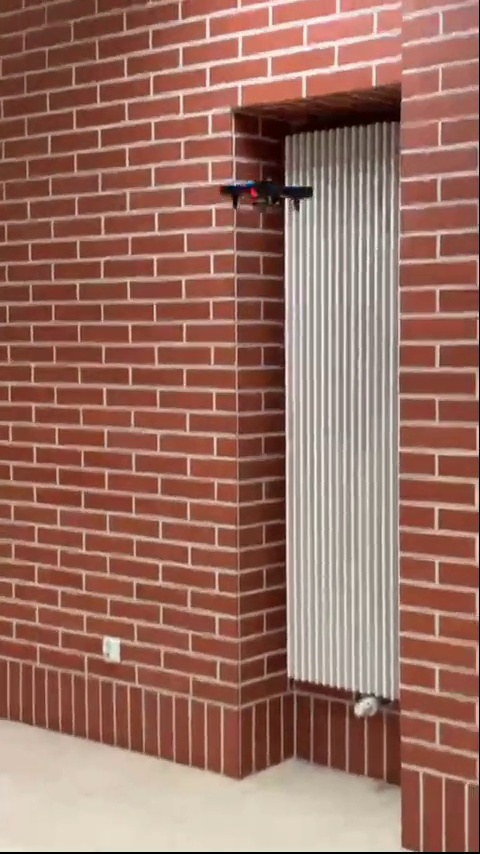drone: (219, 174, 312, 212)
